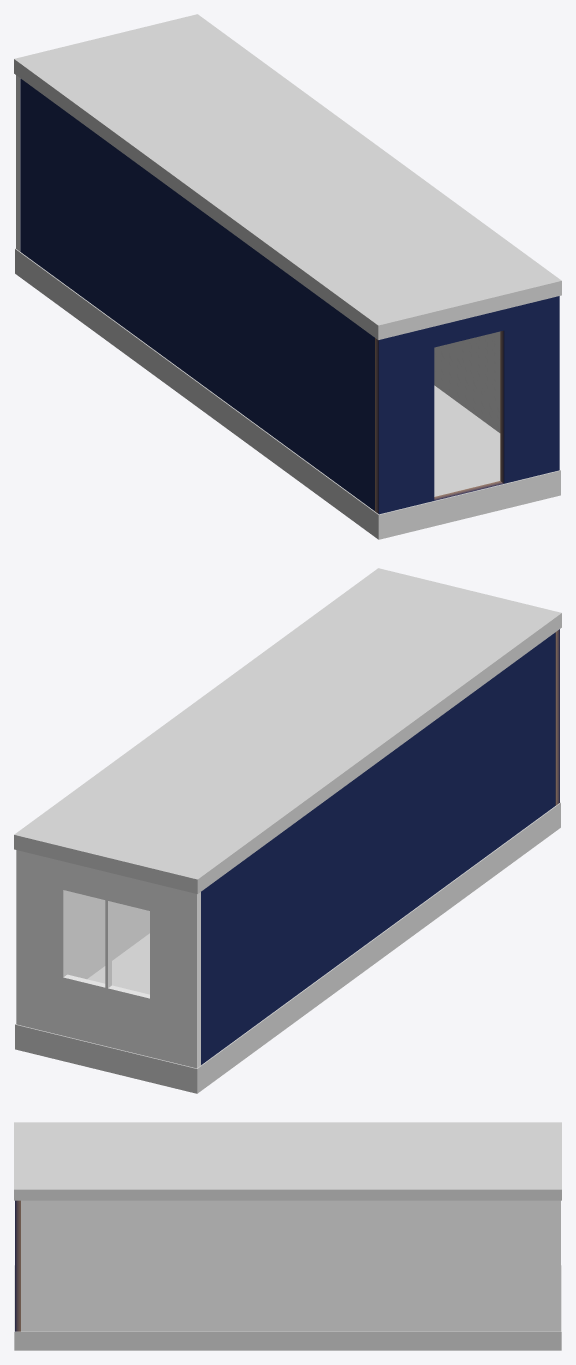
The model's file is CabinShell1.fbx.
3 renders of one model, top to bottom at view 1: azimuth 30°, elevation 25°; view 2: azimuth 150°, elevation 25°; view 3: azimuth 270°, elevation 25°, orthographic. The views are drawn at different scales.
Parts seen in each view (by area): view 1: Roof, WallLong2, WallShortDoor, Floor, WallLong1, WallShortDoubleWindows; view 2: Roof, WallLong2, WallShortDoubleWindows, Floor, WallLong1, WallShortDoor; view 3: WallLong1, Roof, Floor, WallShortDoor, WallShortDoubleWindows.
Part boxes in pixels (bbox=[...]): Roof: bbox=[14, 14, 561, 339]; WallLong2: bbox=[20, 78, 374, 510]; WallShortDoor: bbox=[375, 296, 559, 514]; Floor: bbox=[15, 248, 560, 539]; WallLong1: bbox=[434, 331, 500, 432]; WallShortDoubleWindows: bbox=[16, 75, 20, 251]; Roof: bbox=[14, 568, 561, 893]; WallLong2: bbox=[201, 632, 555, 1064]; WallShortDoubleWindows: bbox=[16, 850, 200, 1068]; Floor: bbox=[15, 802, 560, 1093]; WallLong1: bbox=[67, 891, 149, 979]; WallShortDoor: bbox=[555, 629, 559, 805]; WallLong1: bbox=[21, 1200, 554, 1331]; Roof: bbox=[14, 1122, 561, 1200]; Floor: bbox=[14, 1265, 561, 1350]; WallShortDoor: bbox=[15, 1200, 20, 1331]; WallShortDoubleWindows: bbox=[555, 1200, 560, 1331].
Bounding box in the file's own units: 264 × 294 × 906.
